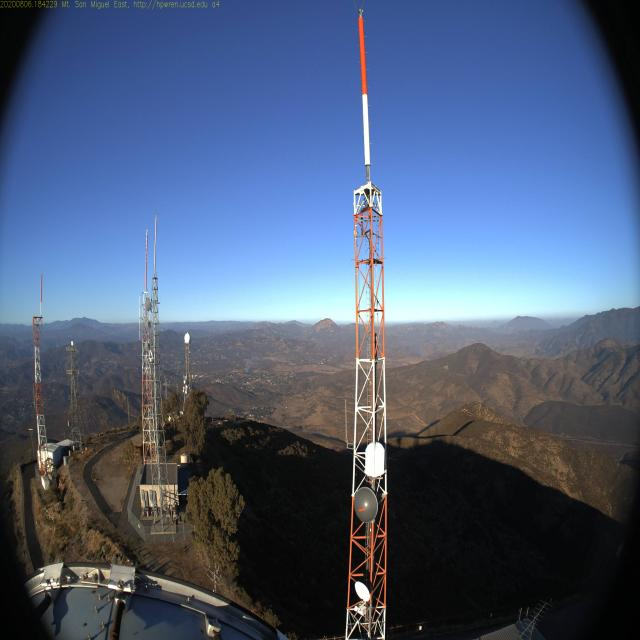smoke: (244, 350, 260, 375)
